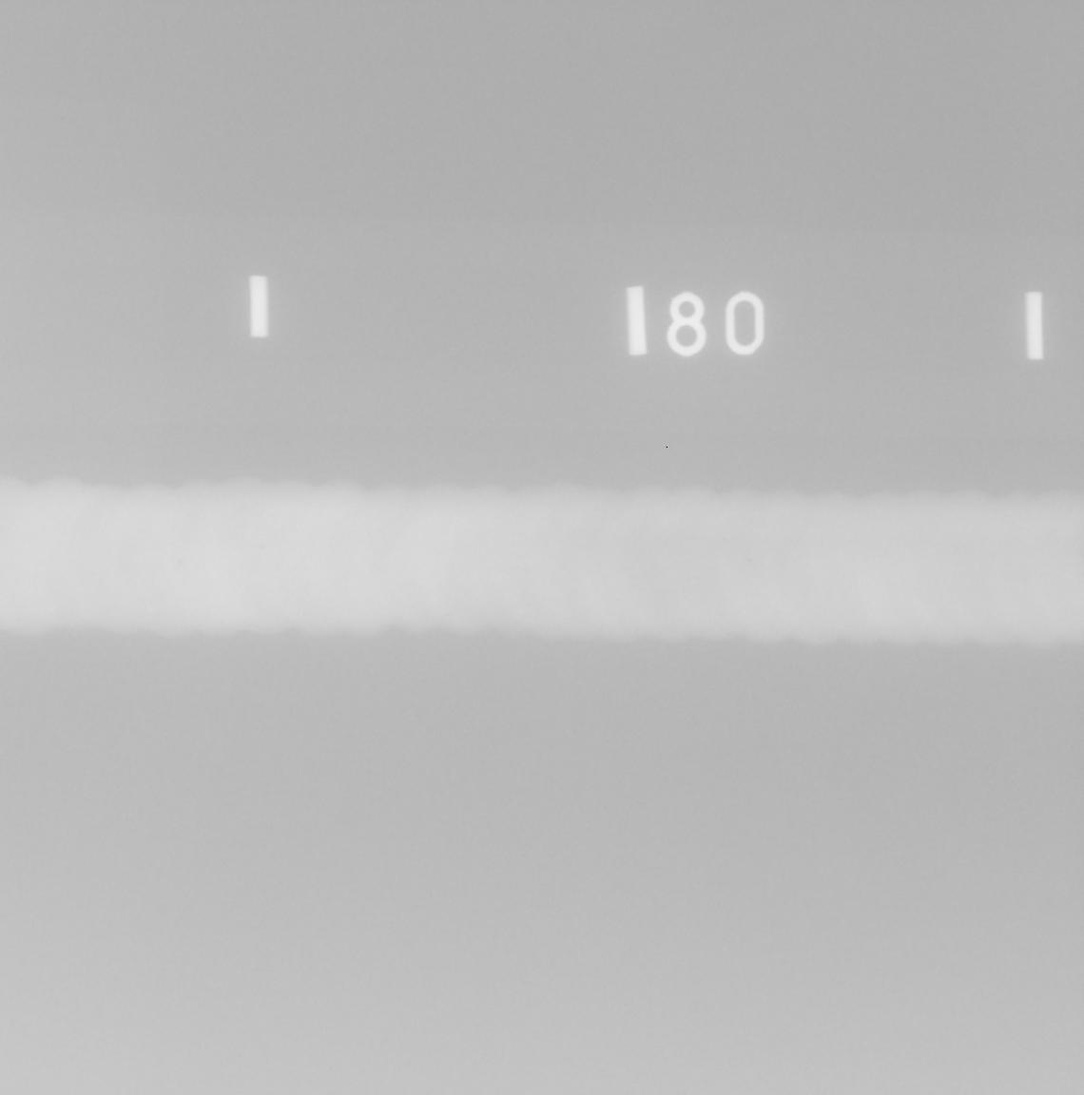Pore/Porosity: (177, 559, 183, 564), (721, 537, 727, 542), (748, 558, 752, 563), (261, 545, 265, 549), (782, 560, 786, 564)
